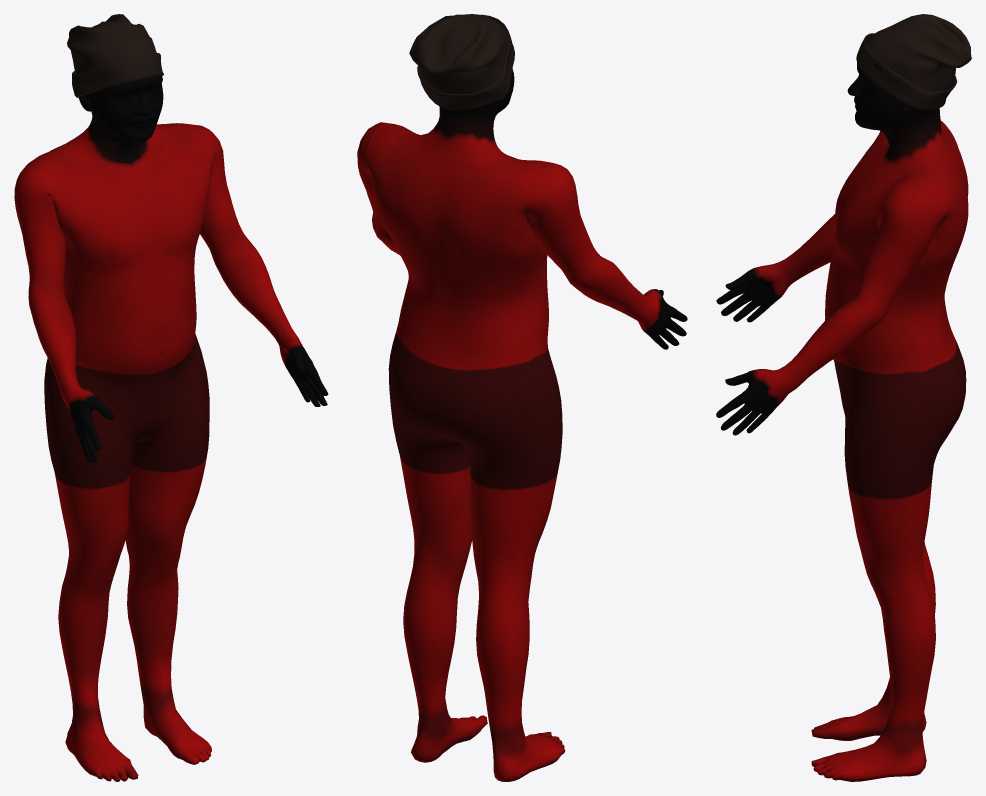
The model's file is avatar.glb.
The picture shows the model from 3 angles, left to right: view 1: azimuth 30°, elevation 25°; view 2: azimuth 150°, elevation 25°; view 3: azimuth 270°, elevation 25°; orthographic projection. The views are drawn at different scales.
Parts seen in each view (by area): view 1: kenil_body, kenil_hair; view 2: kenil_body, kenil_hair; view 3: kenil_body, kenil_hair.
Boxes of the visible parts, bbox=[...] form: kenil_body: bbox=[14, 75, 328, 781]; kenil_hair: bbox=[67, 14, 163, 97]; kenil_body: bbox=[357, 68, 687, 781]; kenil_hair: bbox=[409, 14, 514, 110]; kenil_body: bbox=[716, 63, 968, 781]; kenil_hair: bbox=[856, 14, 971, 110].
Bounding box in the file's own units: 0.6192 × 1.81 × 0.5736.
Materials: 2 (2 with a texture image).
